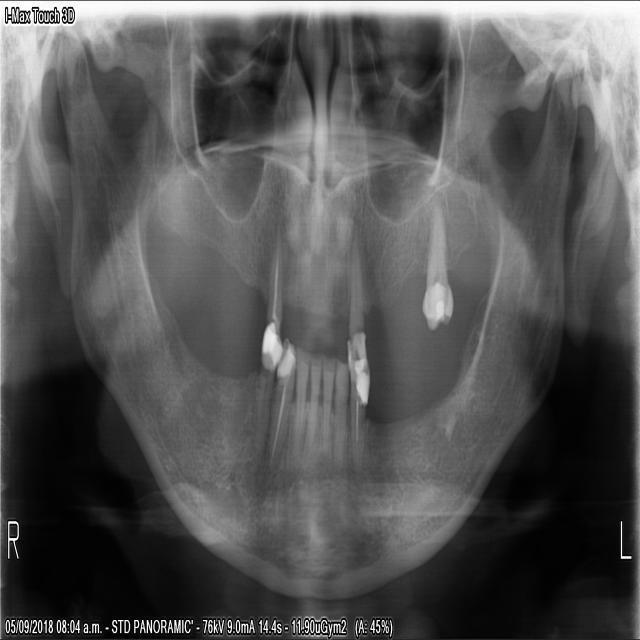LID: (333, 350, 348, 458), (321, 353, 333, 445)
LMU: (424, 200, 454, 332)
LPMD: (350, 364, 367, 462)
LPMU: (348, 245, 368, 368)
RCD: (267, 334, 296, 467)
RID: (290, 347, 309, 452), (302, 350, 321, 453)
RPMD: (251, 351, 276, 465)
RPMU: (264, 202, 285, 367)
